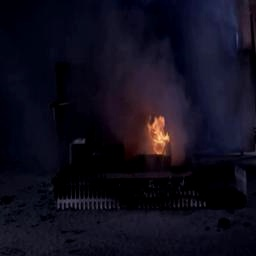fire: (137, 109, 185, 162)
smoke: (33, 3, 224, 106)
